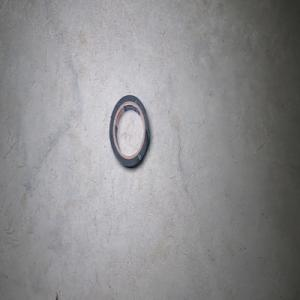Tape: (109, 94, 150, 168)
